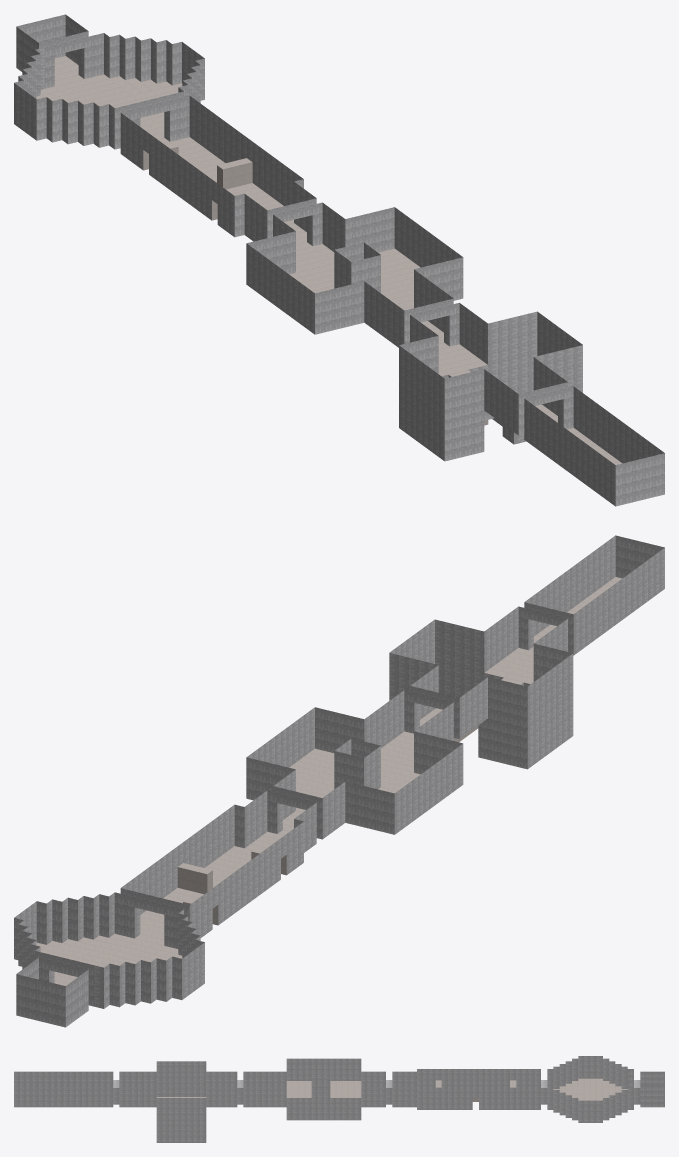
The model's file is PlayStage2ForUnity.fbx.
3 renders of one model, top to bottom at view 1: azimuth 30°, elevation 25°; view 2: azimuth 150°, elevation 25°; view 3: azimuth 270°, elevation 25°, orthographic. The views are drawn at different scales.
Visible parts, largest first — view 1: Plane.072; view 2: Plane.072; view 3: Plane.072.
Boxes of the visible parts, box(x1,y1,x2,y2) form: Plane.072: box(14, 14, 664, 506); Plane.072: box(14, 535, 664, 1027); Plane.072: box(14, 1056, 664, 1142).
Size of the model in its own units: 6800 by 3200 by 42000.
Materials: 2 (2 with a texture image).
